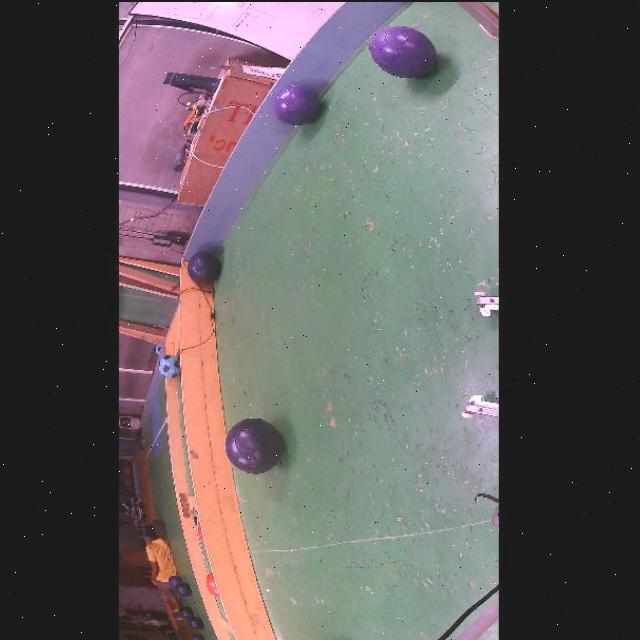B: (225, 417, 282, 472), (187, 251, 220, 282)
P: (369, 23, 436, 76), (272, 83, 320, 124)
